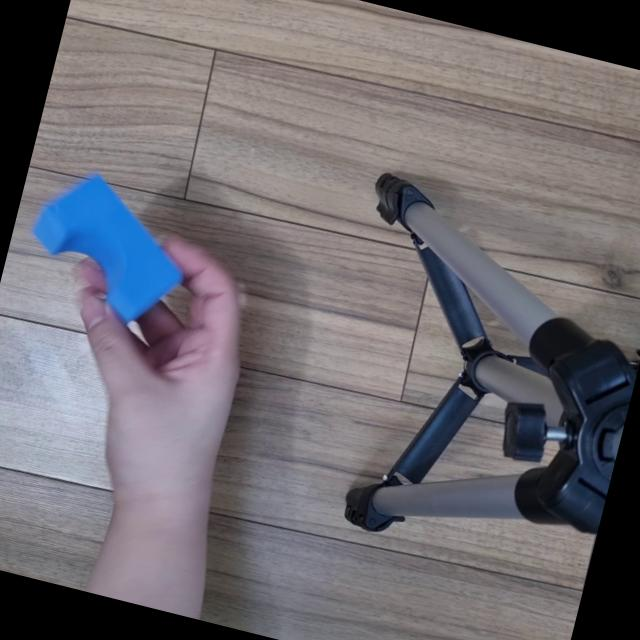block: (16, 157, 206, 344)
hand: (49, 211, 282, 515)
